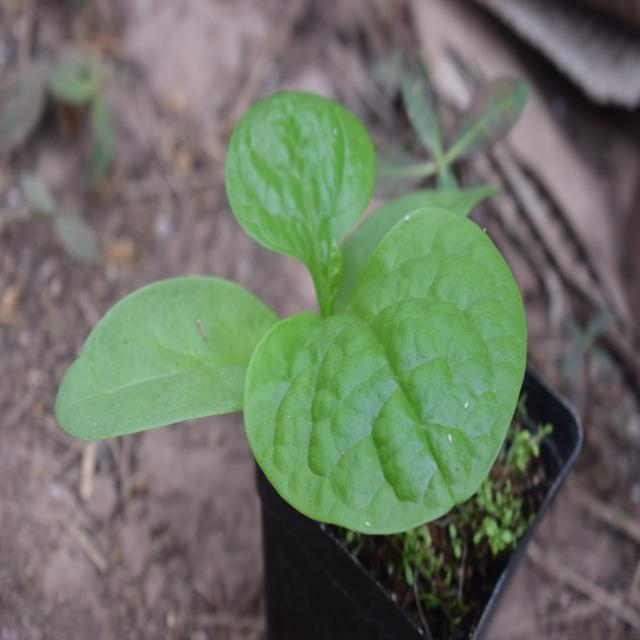Ceylon spinach: (97, 140, 520, 515)
